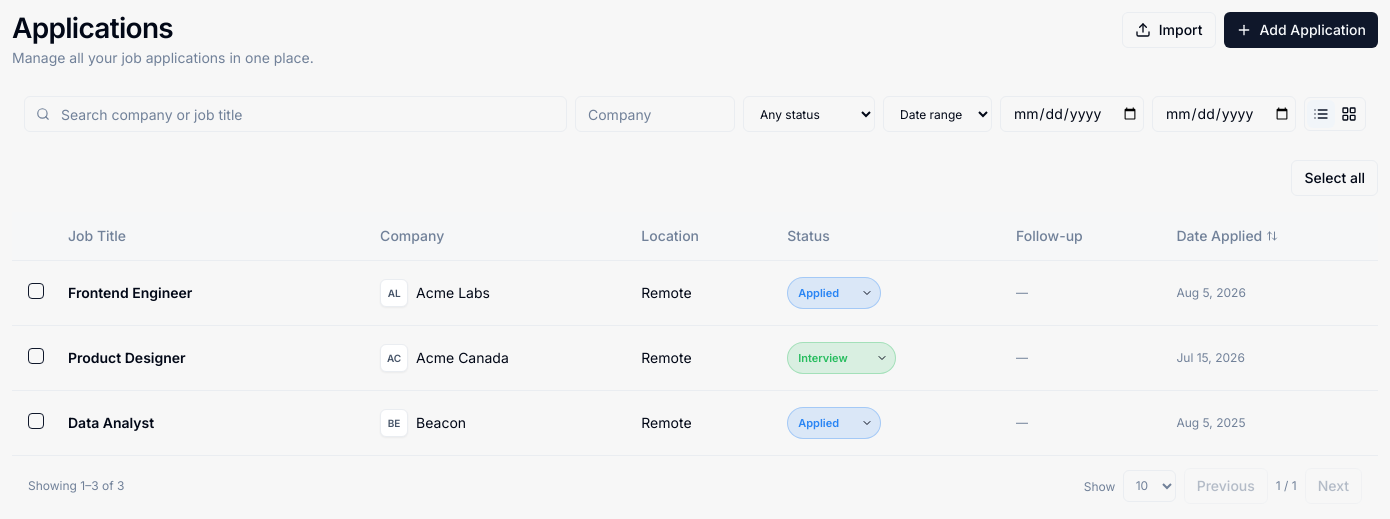
Test: ApplicationsList › filters an inclusive date range with optional boundaries
Expected: the dropdown named "Date filter" shows "Date range", left=883, top=96, right=992, bottom=132
In the date field named "From date": point(1072, 114) left=1000, top=96, right=1144, bottom=132, type "2026-07-15"
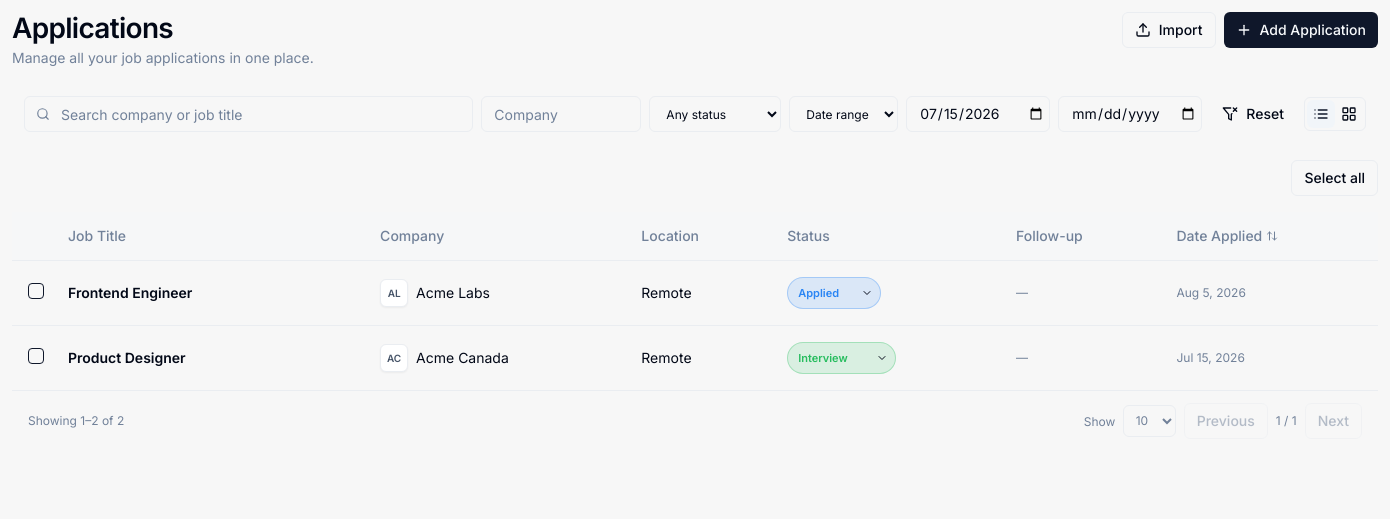
In the date field named "To date": point(1130, 114) left=1058, top=96, right=1202, bottom=132, type "2026-08-05"
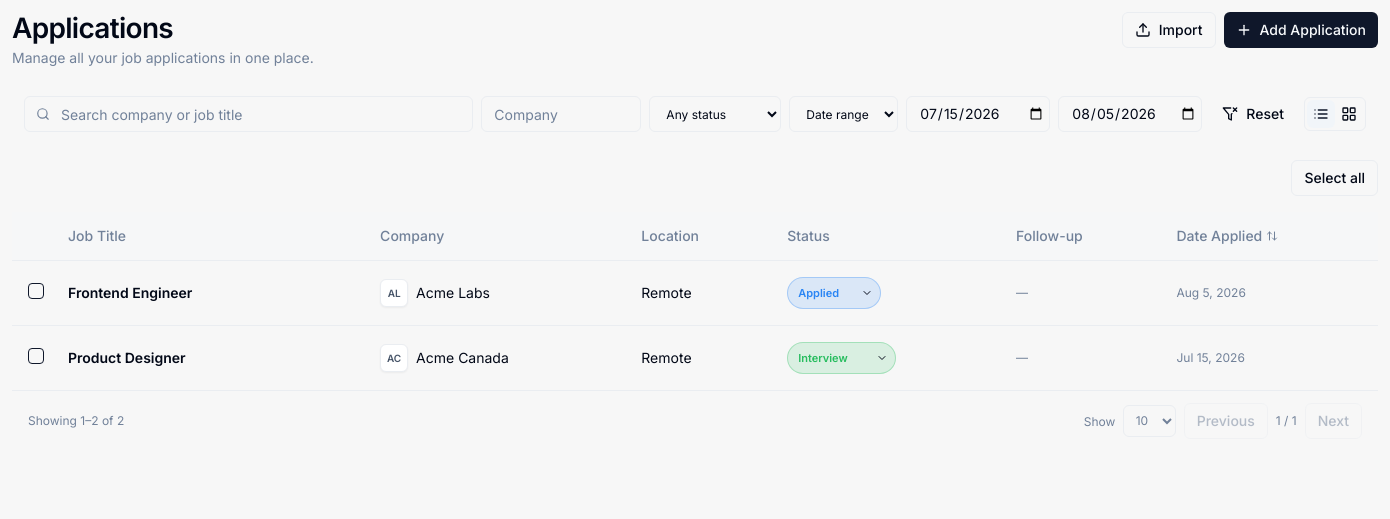
Expected: the text "Frontend Engineer" is shown, left=52, top=260, right=364, bottom=325
Expected: the text "Product Designer" is shown, left=52, top=325, right=364, bottom=390
Clear the date field named "From date": point(978, 114) left=906, top=96, right=1050, bottom=132
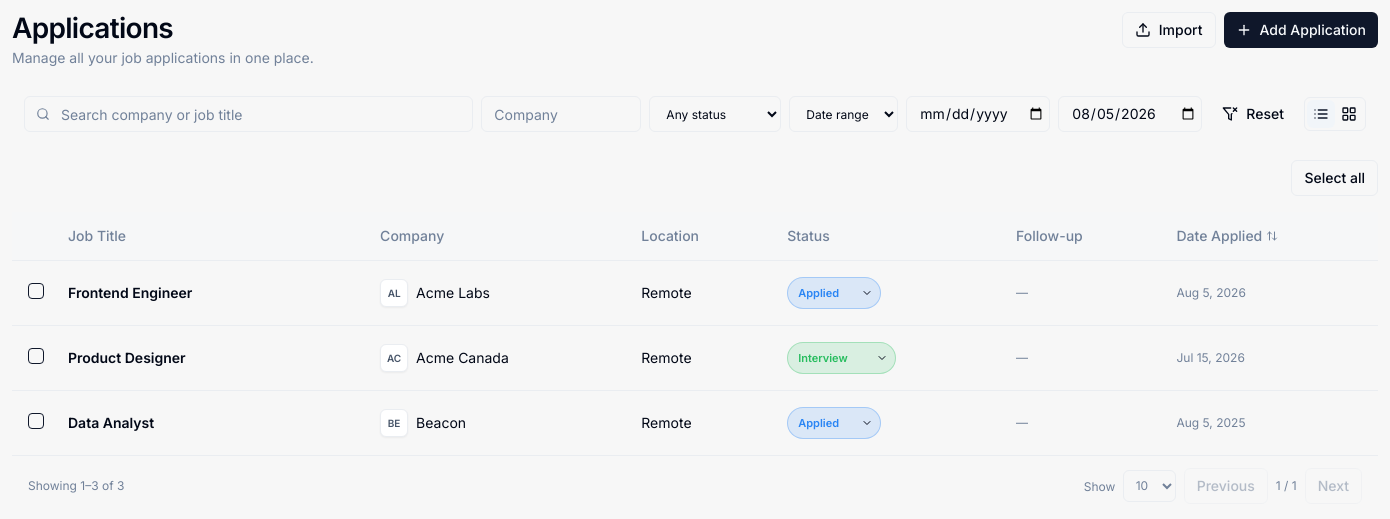
In the date field named "To date": point(1130, 114) left=1058, top=96, right=1202, bottom=132, type "2026-07-15"
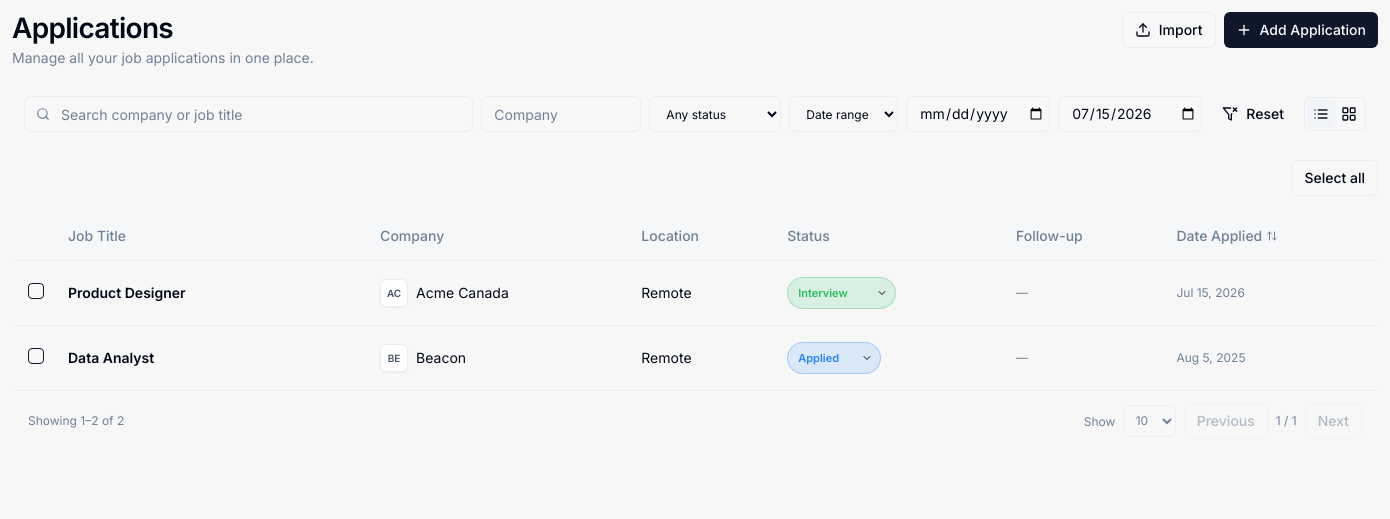
Expected: the text "Product Designer" is shown, left=52, top=260, right=364, bottom=325
Expected: the text "Data Analyst" is shown, left=52, top=325, right=364, bottom=390
Expected: the text "Frontend Engineer" is gone
